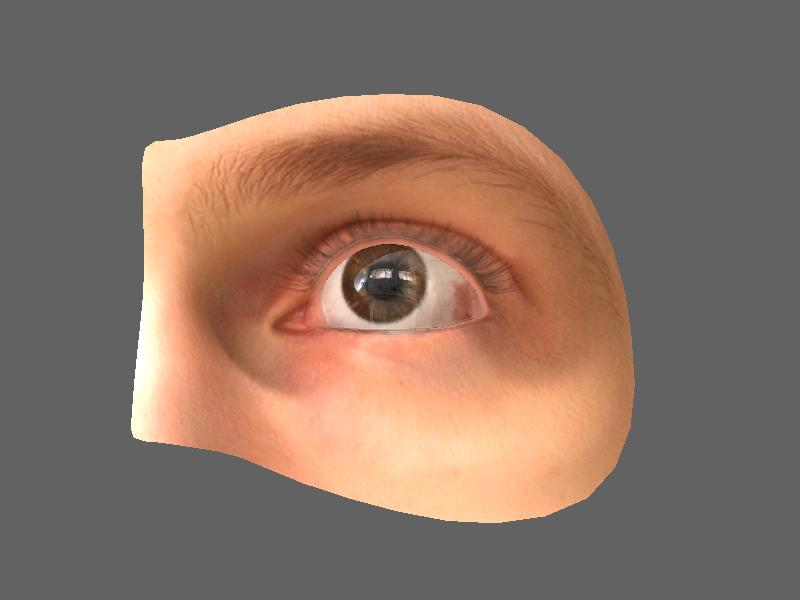iris: (340, 248, 433, 320)
